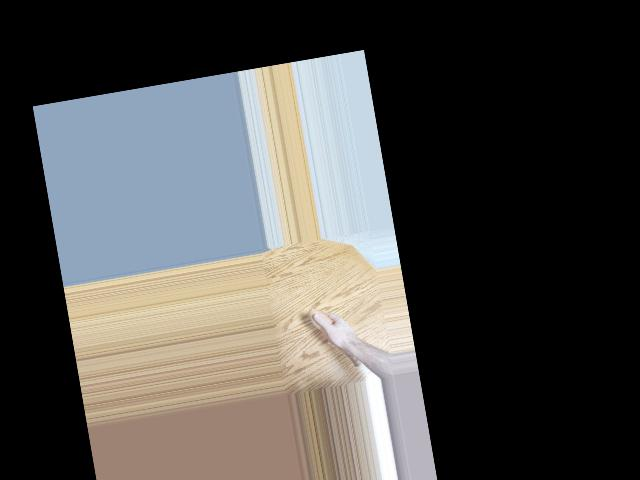sweet_potato: (308, 301, 363, 375)
